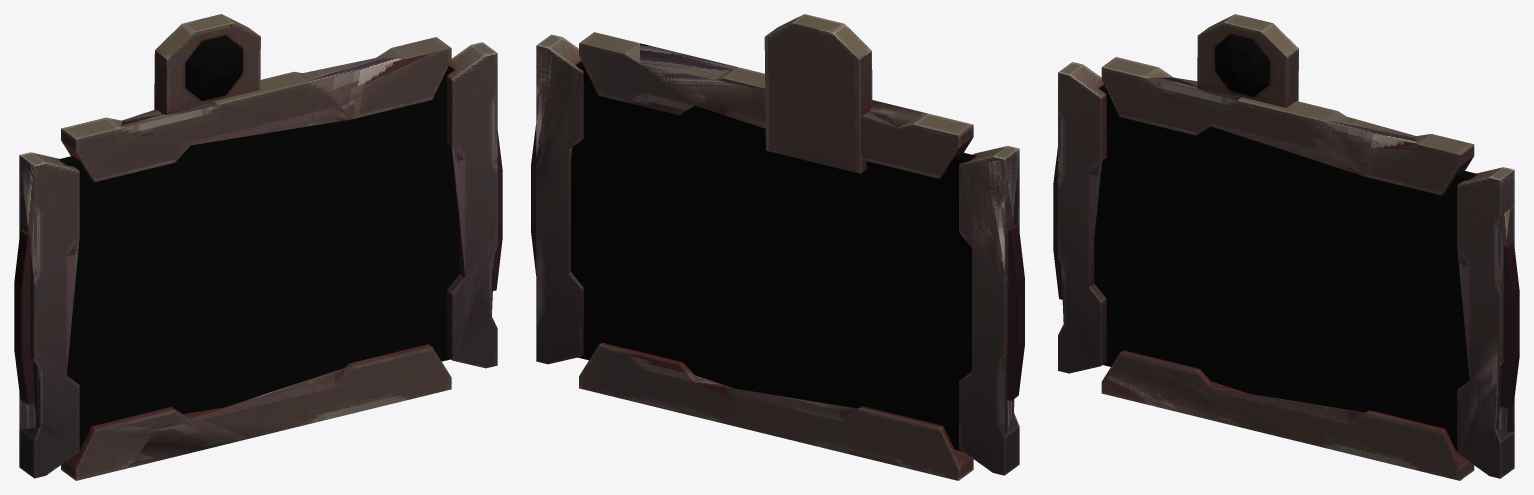
File: item_film_filter_grain.glb
3 renders of one model, left to right at view 1: azimuth 30°, elevation 25°; view 2: azimuth 150°, elevation 25°; view 3: azimuth 330°, elevation 25°, orthographic. The views are drawn at different scales.
Visible parts, largest first — view 1: Cube, IndicatorTab; view 2: Cube, IndicatorTab; view 3: Cube, IndicatorTab.
Part boxes in pixels (left/top/right/bottom): Cube: left=14, top=37, right=502, bottom=480; IndicatorTab: left=154, top=14, right=260, bottom=114; Cube: left=531, top=32, right=1024, bottom=480; IndicatorTab: left=764, top=14, right=872, bottom=173; Cube: left=1053, top=57, right=1519, bottom=480; IndicatorTab: left=1197, top=14, right=1298, bottom=107.
Bounding box in the file's own units: 0.2824 × 0.2327 × 0.0219.
Materials: 1 (1 with a texture image).
